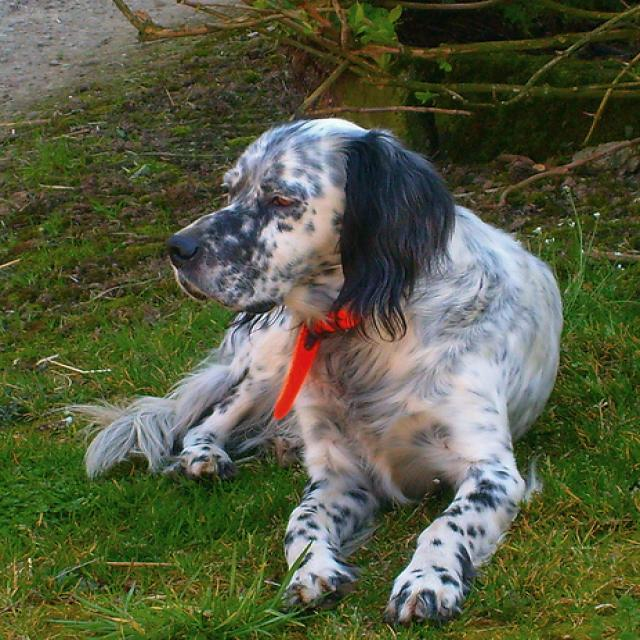dog-english_setter: (48, 110, 572, 637)
